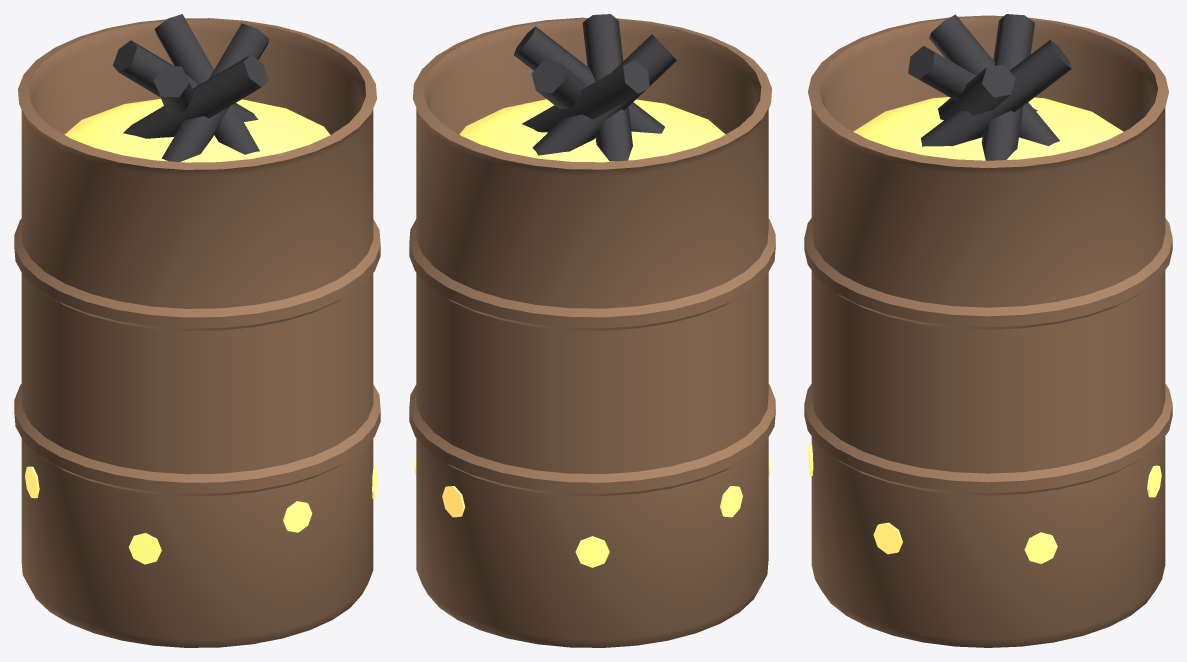
File: fire_barrel.glb
3 renders of one model, left to right at view 1: azimuth 30°, elevation 25°; view 2: azimuth 150°, elevation 25°; view 3: azimuth 270°, elevation 25°, orthographic.
Visible parts, largest first — view 1: fire_barrel; view 2: fire_barrel; view 3: fire_barrel.
Part boxes in pixels (<box>): fire_barrel: <box>14,14,380,647</box>; fire_barrel: <box>409,14,775,647</box>; fire_barrel: <box>804,14,1172,647</box>.
Bounding box in the file's own units: 0.604 × 0.9705 × 0.604.
